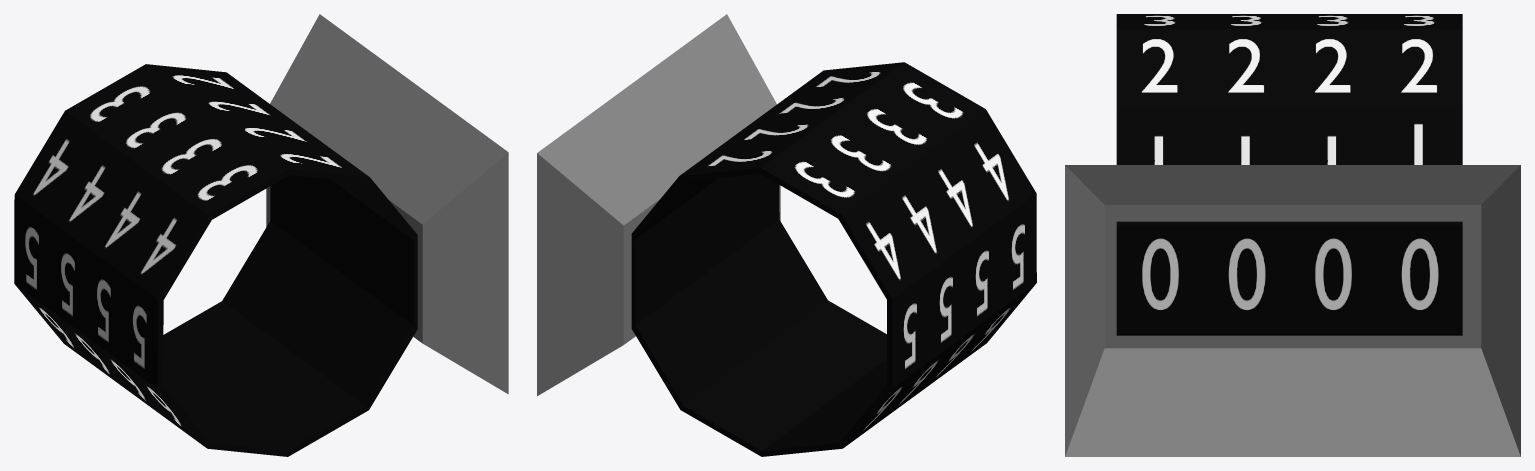
File: CounterBox2.fbx
The picture shows the model from 3 angles, left to right: view 1: azimuth 30°, elevation 25°; view 2: azimuth 150°, elevation 25°; view 3: azimuth 270°, elevation 25°; orthographic projection. The views are drawn at different scales.
Visible parts, largest first — view 1: Plane.004, Plane.008, Plane.006, Plane.005, Plane.007, Plane; view 2: Plane.004, Plane.005, Plane.006, Plane.008, Plane.007, Plane; view 3: Plane.004, Plane.005, Plane.007, Plane.006, Plane.008.
Part boxes in pixels (bbox=[...]): Plane.004: bbox=[266, 14, 508, 394]; Plane.008: bbox=[122, 143, 417, 456]; Plane.006: bbox=[50, 90, 342, 398]; Plane.005: bbox=[14, 64, 306, 371]; Plane.007: bbox=[86, 116, 378, 424]; Plane: bbox=[294, 273, 377, 379]; Plane.004: bbox=[537, 14, 780, 396]; Plane.005: bbox=[631, 141, 928, 456]; Plane.006: bbox=[671, 115, 964, 424]; Plane.008: bbox=[743, 62, 1036, 371]; Plane.007: bbox=[707, 88, 1000, 397]; Plane: bbox=[707, 246, 791, 352]; Plane.004: bbox=[1065, 165, 1520, 456]; Plane.005: bbox=[1376, 14, 1462, 335]; Plane.007: bbox=[1203, 14, 1289, 335]; Plane.006: bbox=[1289, 14, 1375, 335]; Plane.008: bbox=[1116, 14, 1202, 335].
Size of the model in its own units: 753 by 628 by 748.
